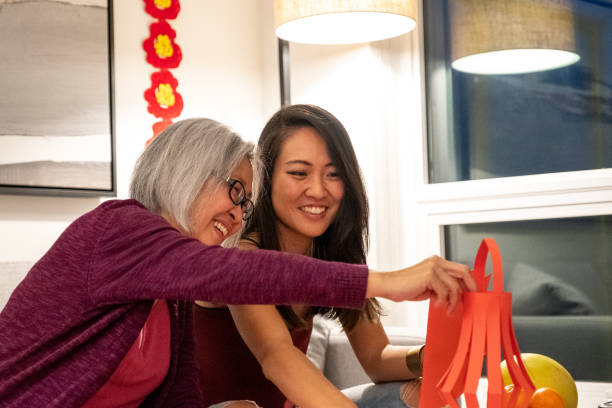without mask: (148, 110, 258, 254), (264, 101, 374, 245)
